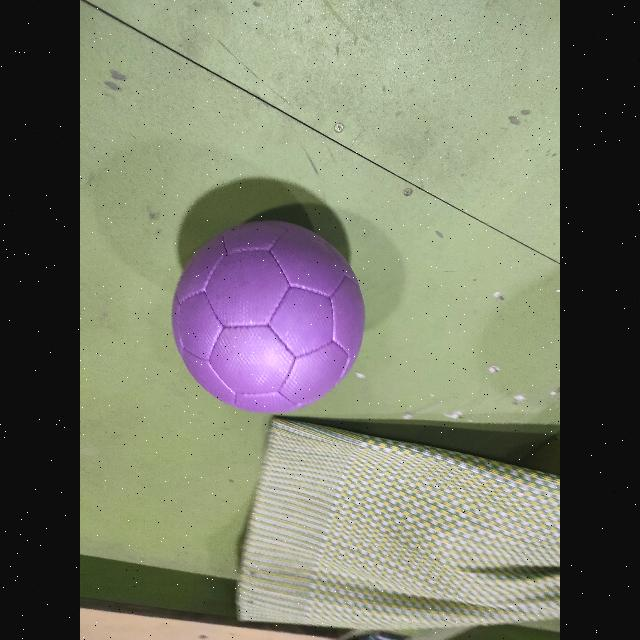P: (172, 221, 364, 413)
